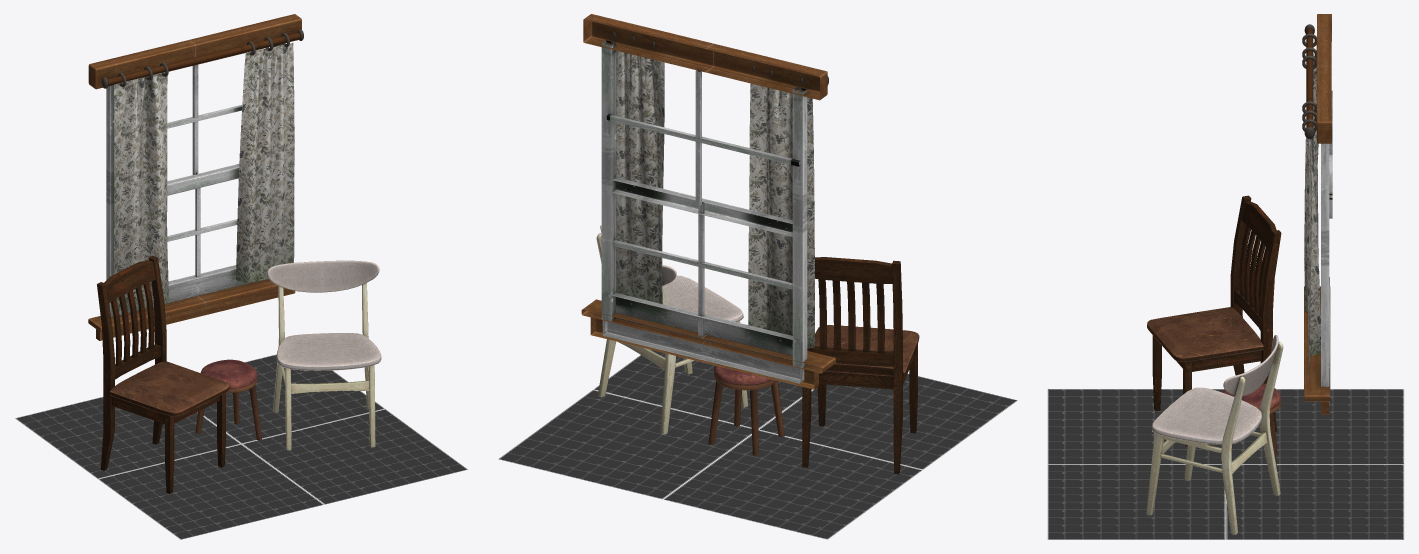
File: chairs_and_window_set_-_game_ready.glb
3 renders of one model, left to right at view 1: azimuth 30°, elevation 25°; view 2: azimuth 150°, elevation 25°; view 3: azimuth 270°, elevation 25°, orthographic. The views are drawn at different scales.
Visible parts, largest first — view 1: Asset, Plane; view 2: Asset, Plane; view 3: Plane, Asset.
Part boxes in pixels (x1,y1,x2,y2): Asset: [88, 14, 381, 493]; Plane: [14, 354, 468, 539]; Asset: [581, 14, 919, 474]; Plane: [498, 350, 1017, 539]; Plane: [1047, 389, 1404, 539]; Asset: [1146, 14, 1332, 534].
Size of the model in its own units: 2 by 2.45 by 2.
2 materials, 2 textured.
